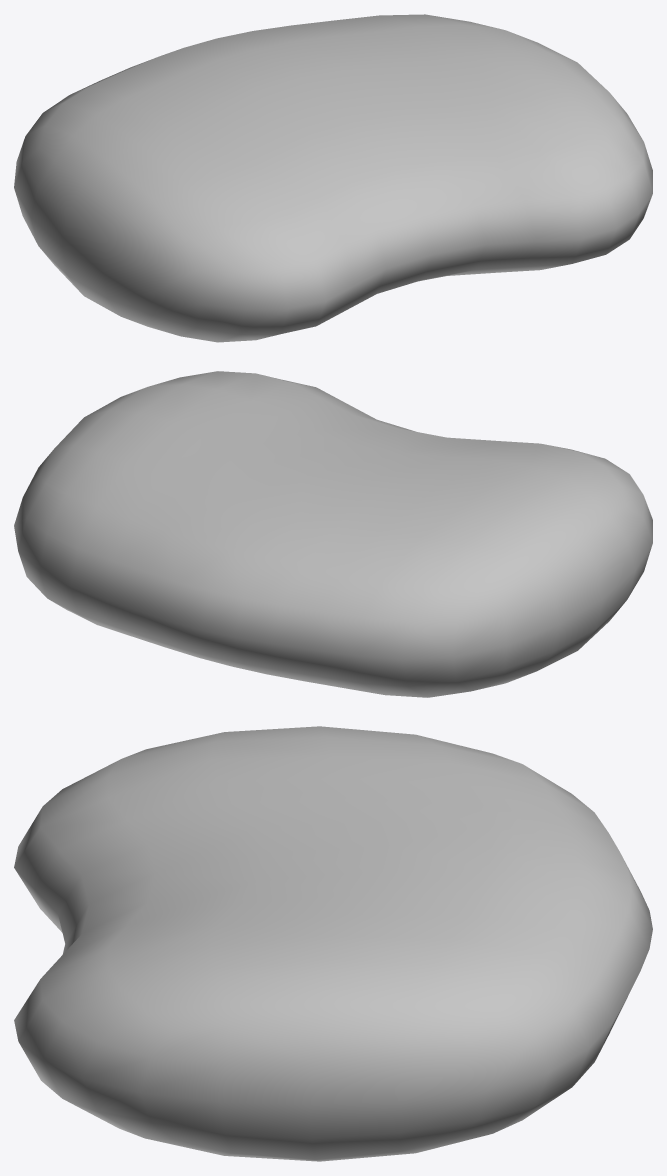
The model's file is Town_12_Stone_3.glb.
3 views of the same model, one above another, from view 1: azimuth 30°, elevation 25°; view 2: azimuth 150°, elevation 25°; view 3: azimuth 270°, elevation 25° (orthographic). The views are drawn at different scales.
Parts seen in each view (by area): view 1: Town_12_Stone_3; view 2: Town_12_Stone_3; view 3: Town_12_Stone_3.
Part boxes in pixels (left/top/right/bottom): Town_12_Stone_3: left=14, top=14, right=652, bottom=342; Town_12_Stone_3: left=14, top=371, right=652, bottom=697; Town_12_Stone_3: left=14, top=726, right=652, bottom=1161.
Size of the model in its own units: 1.09 by 0.3098 by 0.9175.
1 material, 1 textured.
